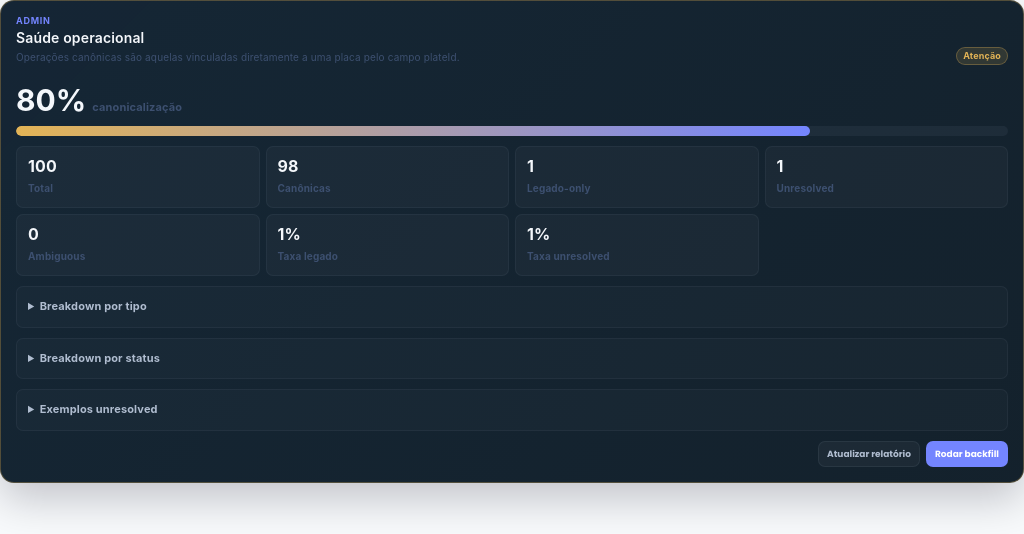
Scenario: OperationCanonicalizationCard › recarrega relatorio pelo botao atualizar
The width and height of the screenshot is (1024, 534).
expect the text "80%" is shown: met, box [16,85,86,115]
What coordinates should you click on to do the following:
click the button "Atualizar relatório"
I would click on:
 (869, 454)
Its box is [818,441,920,467].
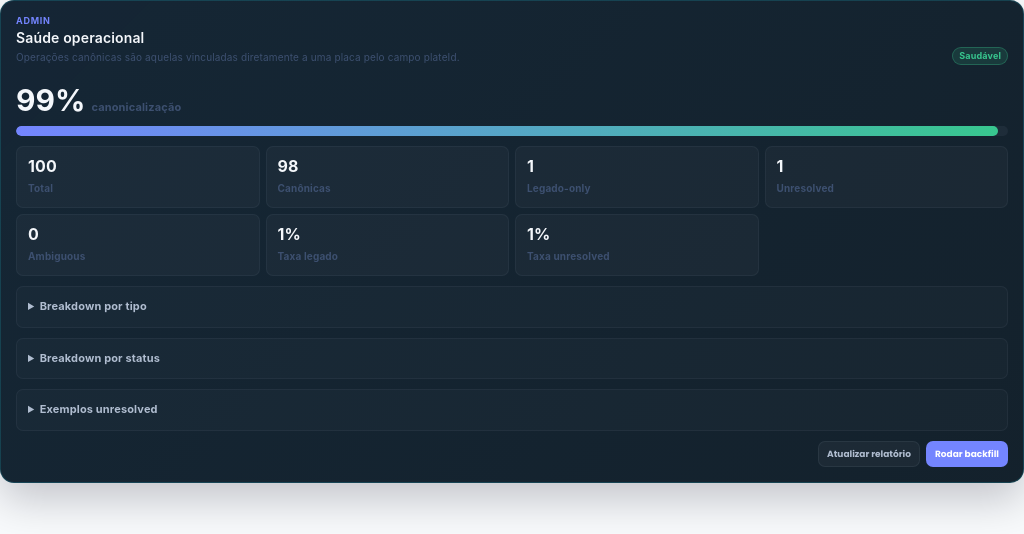
expect the text "99%" is shown: met, box [16,85,85,115]
